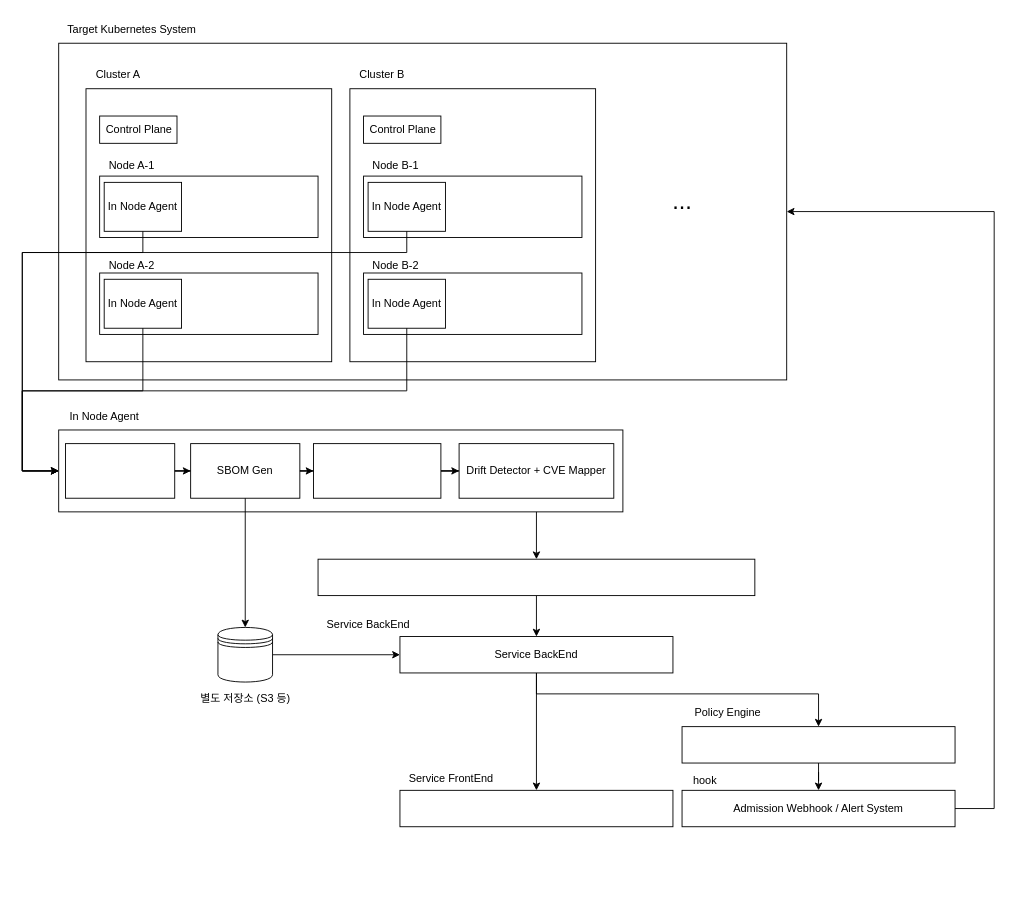
Image size: 1017x905. Some labels were removed from this diagram. Each missing label, with the centre of its shape:
"CycloneDX/SPDX 생성" goes at (377,470).
"Kafka" goes at (536,577).
"Runtime Monitor: eBPF/strace/syscall" goes at (120,470).
"정책 정의 및 관리 UI" goes at (818,744).
"클러스터/네임스페이스 별 Drift/취약점 현황 대시보드" goes at (536,808).
